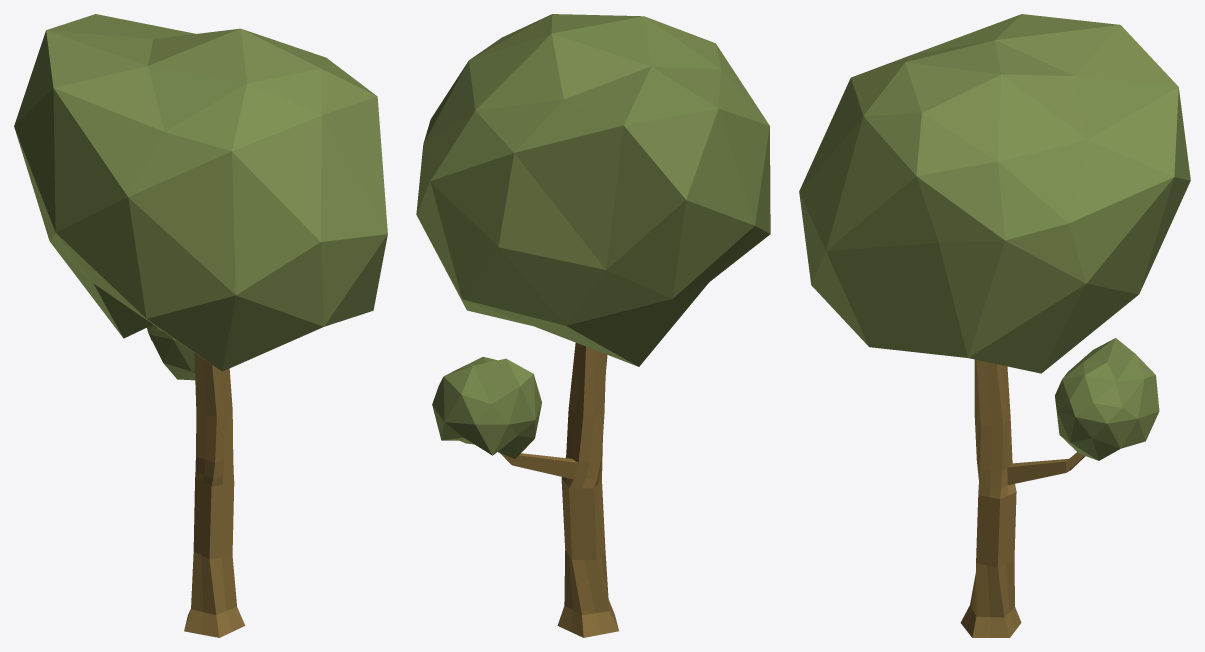
The model's file is small_tree.fbx.
The picture shows the model from 3 angles, left to right: view 1: azimuth 30°, elevation 25°; view 2: azimuth 150°, elevation 25°; view 3: azimuth 270°, elevation 25°; orthographic projection. The views are drawn at different scales.
Parts seen in each view (by area): view 1: Cylinder; view 2: Cylinder; view 3: Cylinder.
Part boxes in pixels (<box>): Cylinder: <box>14,14,387,637</box>; Cylinder: <box>416,14,770,637</box>; Cylinder: <box>799,14,1190,637</box>.
Size of the model in its own units: 246 by 440 by 275.
